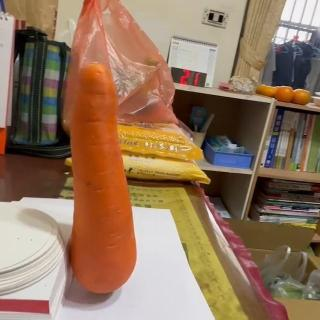carrot: (70, 63, 138, 295)
